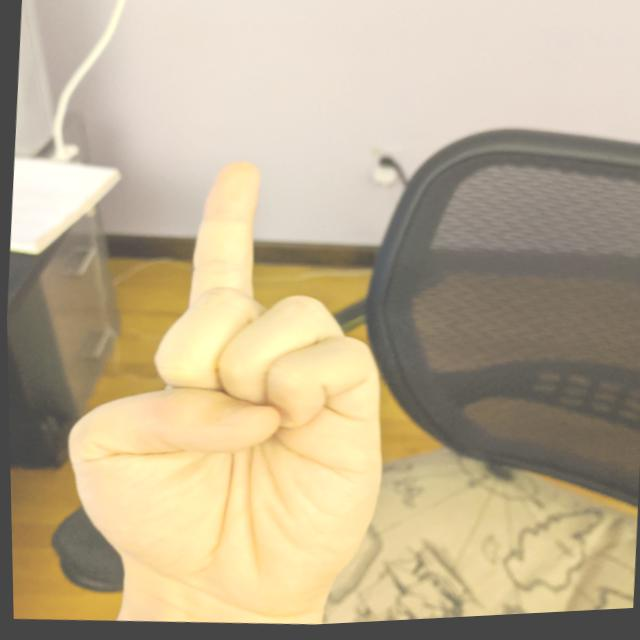D: (39, 136, 420, 638)
